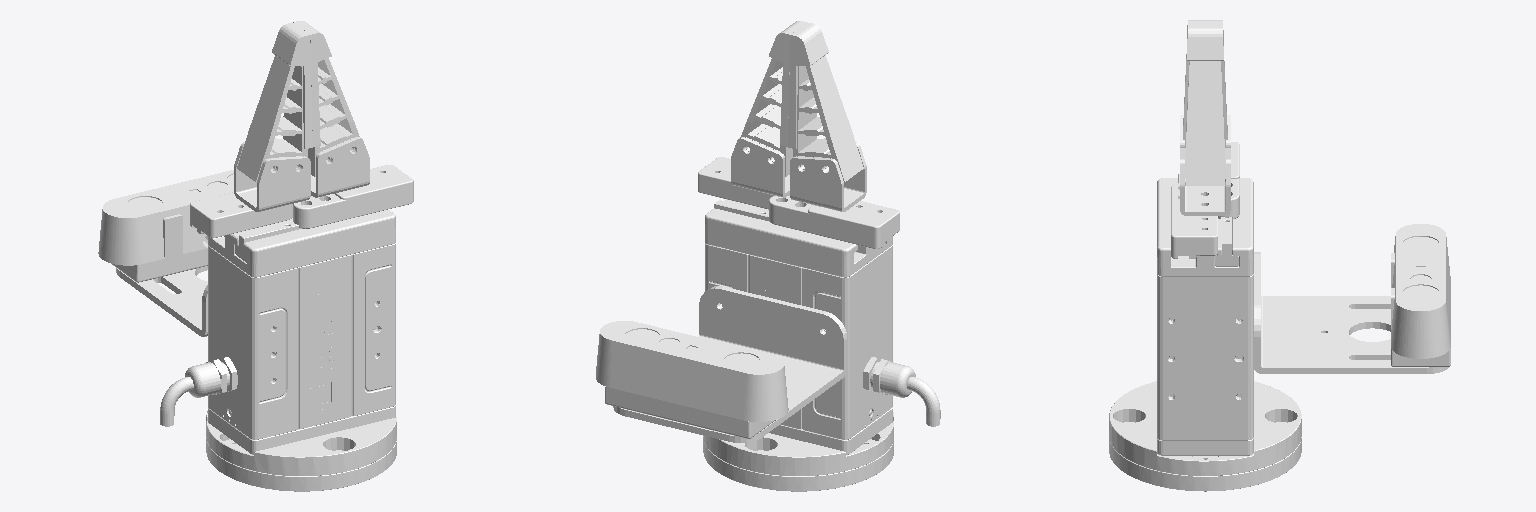
robot.urdf — gripper_description:
<?xml version="1.0" encoding="utf-8"?>

<robot
  name="gripper_description">
  <link
    name="gripper_base_link">
    <inertial>
      <origin
        xyz="-0.0004684975887838 0.00303048592831926 0.0502886435926091"
        rpy="0 0 0" />
      <mass
        value="0.338451530379819" />
      <inertia
        ixx="0.000176005566867876"
        ixy="-6.64408835735538E-09"
        ixz="1.13135832689069E-07"
        iyy="0.000237259038170363"
        iyz="1.89171837600438E-06"
        izz="0.000213929505027592" />
    </inertial>
    <visual>
      <origin
        xyz="0 0 0"
        rpy="0 0 0" />
      <geometry>
        <mesh
          filename="package://gripper_description/meshes/base_link.STL" />
      </geometry>
      <material
        name="">
        <color
          rgba="1 1 1 1" />
      </material>
    </visual>
    <collision>
      <origin
        xyz="0 0 0"
        rpy="0 0 0" />
      <geometry>
        <mesh
          filename="package://gripper_description/meshes/base_link.STL" />
      </geometry>
    </collision>
  </link>
  <link
    name="Gripper_Link1">
    <inertial>
      <origin
        xyz="0.0280069393107553 0.00611122757021528 -0.00200684068788289"
        rpy="0 0 0" />
      <mass
        value="0.0252253473341853" />
      <inertia
        ixx="3.64693126790912E-06"
        ixy="-1.25306744959638E-08"
        ixz="-6.52209709686841E-07"
        iyy="7.00716884133288E-06"
        iyz="1.03549055739974E-07"
        izz="4.79349978637373E-06" />
    </inertial>
    <visual>
      <origin
        xyz="0 0 0"
        rpy="0 0 0" />
      <geometry>
        <mesh
          filename="package://gripper_description/meshes/Gripper_Link1.STL" />
      </geometry>
      <material
        name="">
        <color
          rgba="1 1 1 1" />
      </material>
    </visual>
    <collision>
      <origin
        xyz="0 0 0"
        rpy="0 0 0" />
      <geometry>
        <mesh
          filename="package://gripper_description/meshes/Gripper_Link1.STL" />
      </geometry>
    </collision>
  </link>
  <joint
    name="Gripper_Joint1"
    type="prismatic">
    <origin
      xyz="0.00947 -0.009 0.10472"
      rpy="0 -1.5708 0" />
    <parent
      link="gripper_base_link" />
    <child
      link="Gripper_Link1" />
    <axis
      xyz="0 0 1" />
    <limit
      lower="-1"
      upper="1"
      effort="1"
      velocity="1" />
  </joint>
  <link
    name="Gripper_Link2">
    <inertial>
      <origin
        xyz="0.0280069393107553 0.00611122757021521 -0.00200684068788287"
        rpy="0 0 0" />
      <mass
        value="0.0252253473341853" />
      <inertia
        ixx="3.64693126790912E-06"
        ixy="-1.25306744959344E-08"
        ixz="-6.52209709686843E-07"
        iyy="7.00716884133288E-06"
        iyz="1.03549055739979E-07"
        izz="4.79349978637373E-06" />
    </inertial>
    <visual>
      <origin
        xyz="0 0 0"
        rpy="0 0 0" />
      <geometry>
        <mesh
          filename="package://gripper_description/meshes/Gripper_Link2.STL" />
      </geometry>
      <material
        name="">
        <color
          rgba="1 1 1 1" />
      </material>
    </visual>
    <collision>
      <origin
        xyz="0 0 0"
        rpy="0 0 0" />
      <geometry>
        <mesh
          filename="package://gripper_description/meshes/Gripper_Link2.STL" />
      </geometry>
    </collision>
  </link>
  <joint
    name="Gripper_Joint2"
    type="prismatic">
    <origin
      xyz="-0.00947 0.009 0.10472"
      rpy="3.1416 -1.5708 0" />
    <parent
      link="gripper_base_link" />
    <child
      link="Gripper_Link2" />
    <axis
      xyz="0 0 1" />
    <limit
      lower="-1"
      upper="1"
      effort="1"
      velocity="1" />
  </joint>
  <link
    name="Camera_Link3">
    <inertial>
      <origin
        xyz="-6.45917661786042E-06 -2.58386344099554E-05 0.0147332789871856"
        rpy="0 0 0" />
      <mass
        value="0.0547058531734444" />
      <inertia
        ixx="6.23440458905677E-06"
        ixy="4.47738142991786E-11"
        ixz="5.1211068270788E-09"
        iyy="3.30237698271353E-05"
        iyz="2.48412900210222E-08"
        izz="3.17409016851319E-05" />
    </inertial>
    <visual>
      <origin
        xyz="0 0 0"
        rpy="0 0 0" />
      <geometry>
        <mesh
          filename="package://gripper_description/meshes/Camera_Link3.STL" />
      </geometry>
      <material
        name="">
        <color
          rgba="1 1 1 1" />
      </material>
    </visual>
    <collision>
      <origin
        xyz="0 0 0"
        rpy="0 0 0" />
      <geometry>
        <mesh
          filename="package://gripper_description/meshes/Camera_Link3.STL" />
      </geometry>
    </collision>
  </link>
  <joint
    name="Camera_Joint3"
    type="fixed">
    <origin
      xyz="0 0.08948 0.05452"
      rpy="0 0 0" />
    <parent
      link="gripper_base_link" />
    <child
      link="Camera_Link3" />
    <axis
      xyz="0 0 0" />
  </joint>
</robot>

--- What the picture shows (computed from the rendered views, not written in the file) ---
The picture shows the robot from 3 angles, left to right: view 1: azimuth 30°, elevation 25°; view 2: azimuth 150°, elevation 25°; view 3: azimuth 270°, elevation 25°; orthographic projection.
Model gripper_description with 4 links and 3 joints (2 prismatic, 1 fixed), rooted at gripper_base_link, posed every joint at zero.
Visible links, largest first — view 1: gripper_base_link, Gripper_Link2, Gripper_Link1, Camera_Link3; view 2: gripper_base_link, Camera_Link3, Gripper_Link2, Gripper_Link1; view 3: gripper_base_link, Gripper_Link1, Camera_Link3, Gripper_Link2.
Link boxes in pixels (x1=…): gripper_base_link: x1=116, y1=210, x2=396, y2=491; Gripper_Link2: x1=190, y1=22, x2=312, y2=237; Gripper_Link1: x1=235, y1=21, x2=413, y2=262; Camera_Link3: x1=98, y1=170, x2=233, y2=282; gripper_base_link: x1=613, y1=199, x2=940, y2=491; Camera_Link3: x1=596, y1=321, x2=788, y2=438; Gripper_Link2: x1=714, y1=22, x2=899, y2=248; Gripper_Link1: x1=698, y1=21, x2=806, y2=209; gripper_base_link: x1=1109, y1=178, x2=1448, y2=491; Gripper_Link1: x1=1171, y1=24, x2=1230, y2=258; Camera_Link3: x1=1391, y1=224, x2=1450, y2=366; Gripper_Link2: x1=1180, y1=20, x2=1239, y2=266.
Size in the robot's own frame: 0.1147 by 0.142 by 0.1974 metres.
4 mesh visuals loaded from 4 distinct referenced files (4 binary STL).